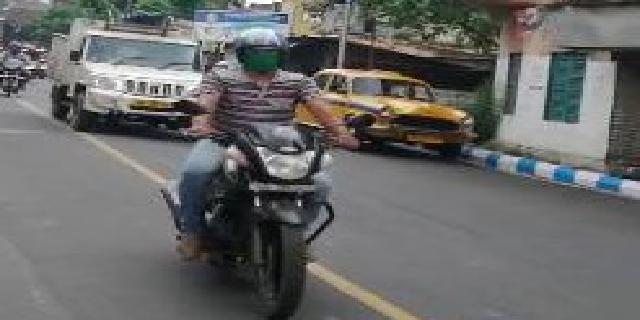Car: (298, 65, 474, 165)
Minitruck: (32, 11, 202, 134)
Motorbike: (158, 27, 367, 320), (1, 37, 31, 102)
